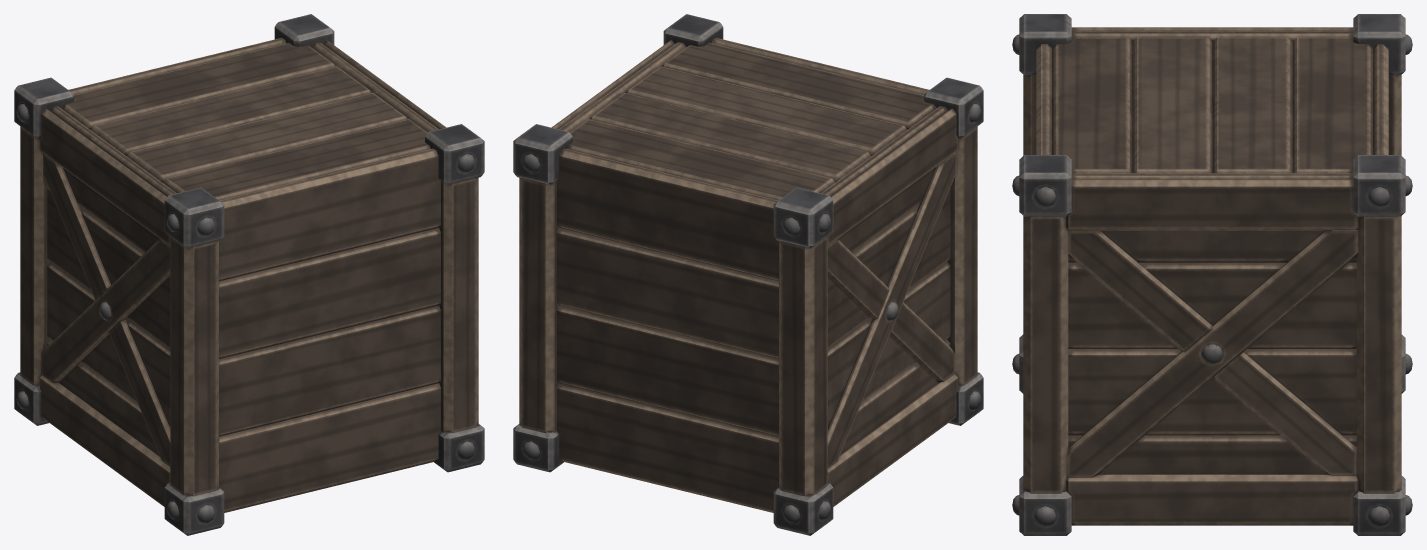
Rendered from SM_Decor_Crate.fbx.
3 renders of one model, left to right at view 1: azimuth 30°, elevation 25°; view 2: azimuth 150°, elevation 25°; view 3: azimuth 270°, elevation 25°, orthographic. The views are drawn at different scales.
Parts seen in each view (by area): view 1: SM_Decor_Crate; view 2: SM_Decor_Crate; view 3: SM_Decor_Crate.
Boxes of the visible parts, <box> form: SM_Decor_Crate: <box>14,14,484,535</box>; SM_Decor_Crate: <box>513,14,983,535</box>; SM_Decor_Crate: <box>1012,14,1412,535</box>.
Size of the model in its own units: 25 by 25 by 25.
Materials: 1 (1 with a texture image).
